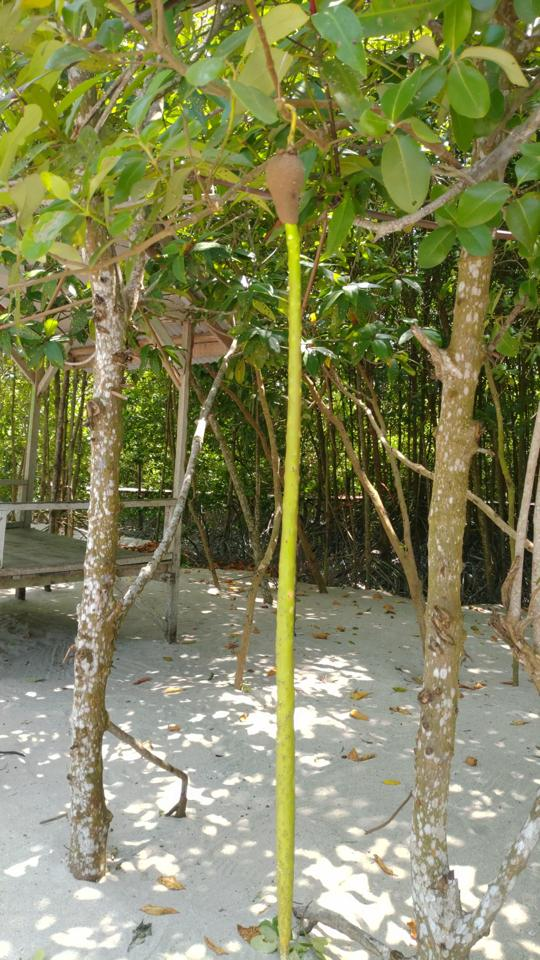mentah: (256, 138, 331, 956)
